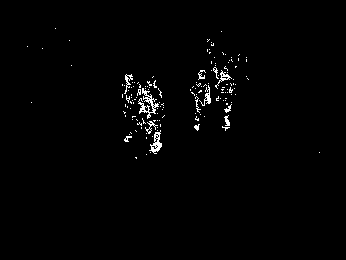person: (140, 75, 168, 156), (118, 72, 145, 145), (215, 66, 237, 133), (190, 68, 212, 132)
